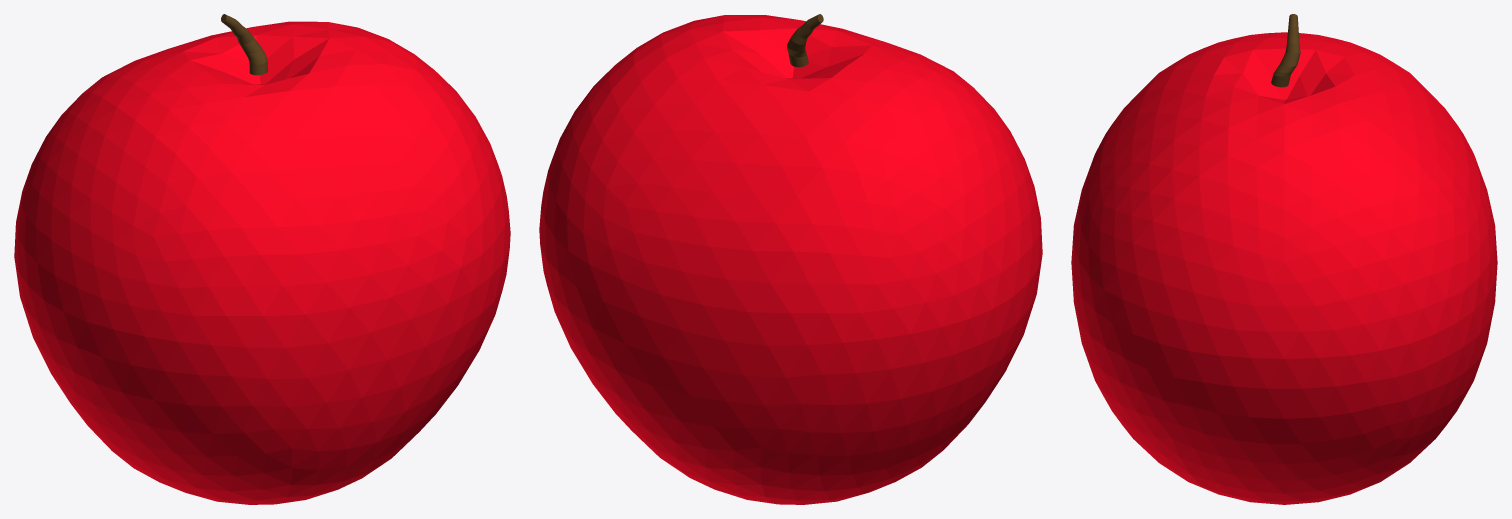
The model's file is Apple.fbx.
3 renders of one model, left to right at view 1: azimuth 30°, elevation 25°; view 2: azimuth 150°, elevation 25°; view 3: azimuth 270°, elevation 25°, orthographic. The views are drawn at different scales.
Parts seen in each view (by area): view 1: Apple, Tallo; view 2: Apple, Tallo; view 3: Apple, Tallo.
Part boxes in pixels (x1,y1,x2,y2): Apple: [14, 21, 510, 504]; Tallo: [221, 14, 267, 75]; Apple: [539, 15, 1042, 504]; Tallo: [787, 14, 823, 67]; Apple: [1071, 32, 1497, 504]; Tallo: [1271, 14, 1300, 87].
Size of the model in its own units: 230 by 233 by 200.
